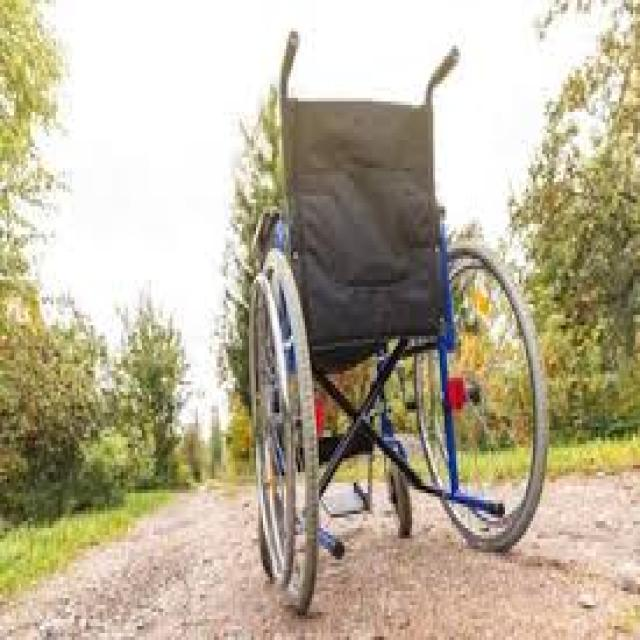wheelchairs: (235, 14, 549, 619)
